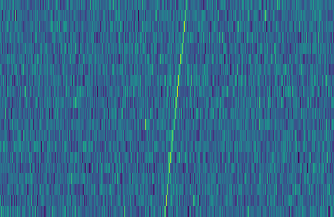signal: (160, 0, 191, 217)
